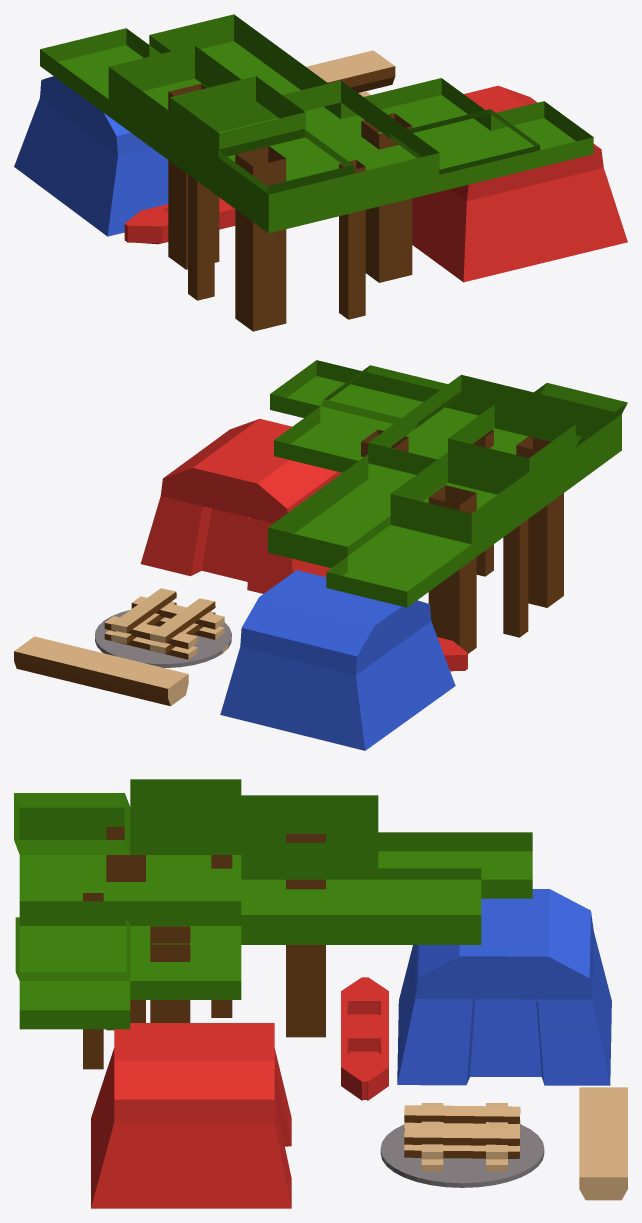
File: camp.fbx
3 renders of one model, top to bottom at view 1: azimuth 30°, elevation 25°; view 2: azimuth 150°, elevation 25°; view 3: azimuth 270°, elevation 25°, orthographic. The views are drawn at different scales.
Parts seen in each view (by area): view 1: Circle; view 2: Circle; view 3: Circle.
Boxes of the visible parts, bbox=[...] form: Circle: bbox=[14, 14, 627, 331]; Circle: bbox=[14, 360, 627, 750]; Circle: bbox=[14, 779, 627, 1208].
Bounding box in the file's own units: 885 × 423 × 1063.
Materials: 1 (1 with a texture image).
